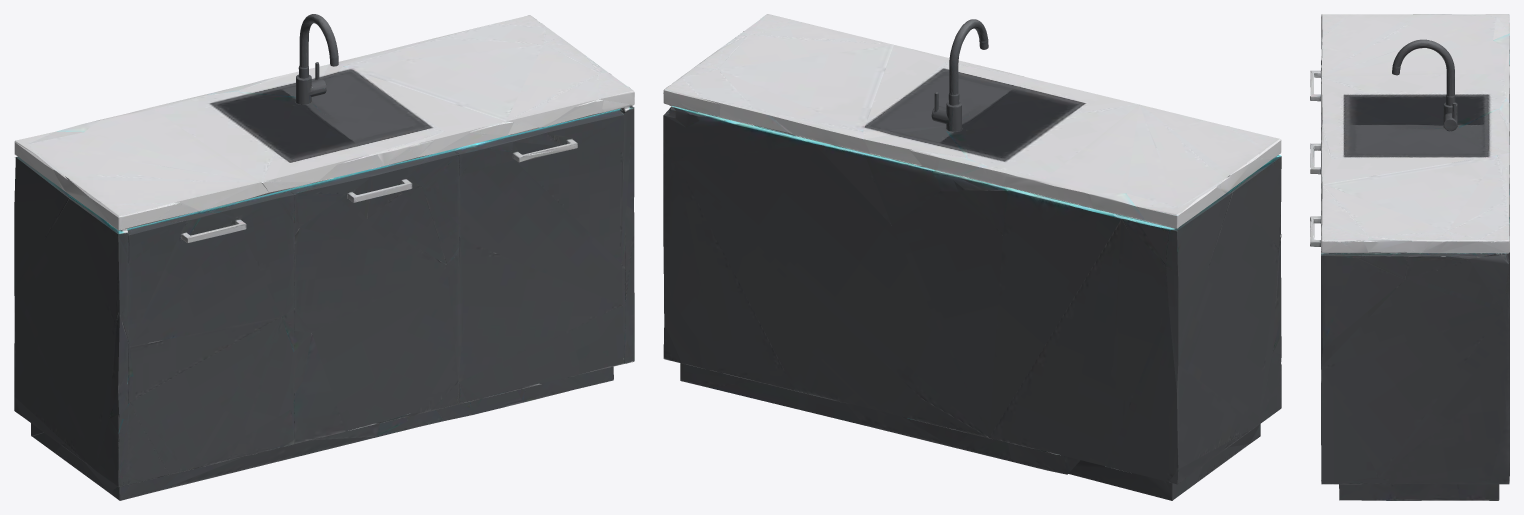
File: counter.glb
The picture shows the model from 3 angles, left to right: view 1: azimuth 30°, elevation 25°; view 2: azimuth 150°, elevation 25°; view 3: azimuth 270°, elevation 25°; orthographic projection. The views are drawn at different scales.
Size of the model in its own units: 1.9 by 1.38 by 0.7076.
1 material, 1 textured.
